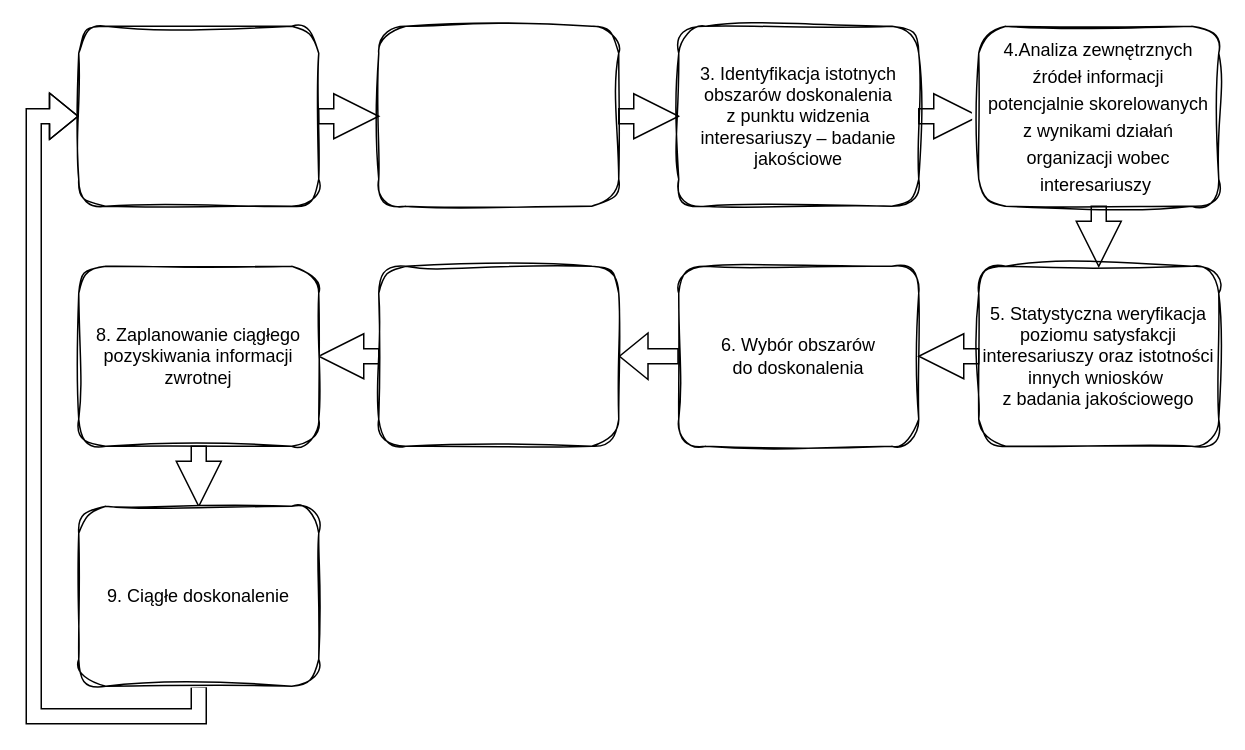
This 1245x750 diagram has some shape labels left out. The centre of each missing label's shape, as x and y in pixels:
"1. Identyfikacja misji, wizji i celów uczelni" belongs at (x=198, y=115).
"2. Identyfikacja istotnych interesariuszy" belongs at (x=498, y=115).
"7. Implementacja zmian w celu osiągnięcia poprawy w wybranych obszarach" belongs at (x=498, y=355).
